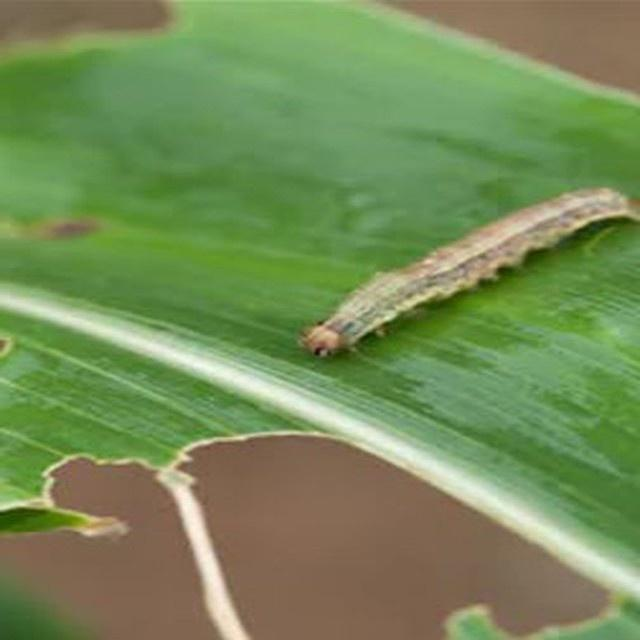gusano_cogollero: (294, 181, 640, 364)
